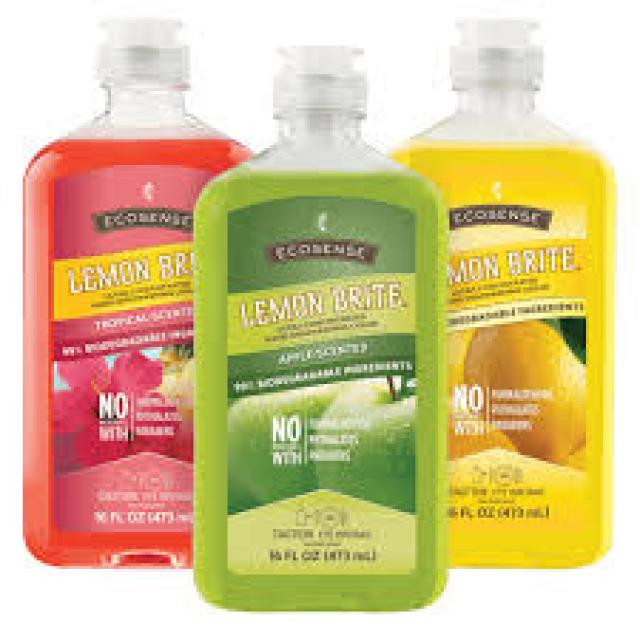liquid soap: (193, 46, 451, 620), (22, 16, 258, 577), (380, 16, 605, 573)
